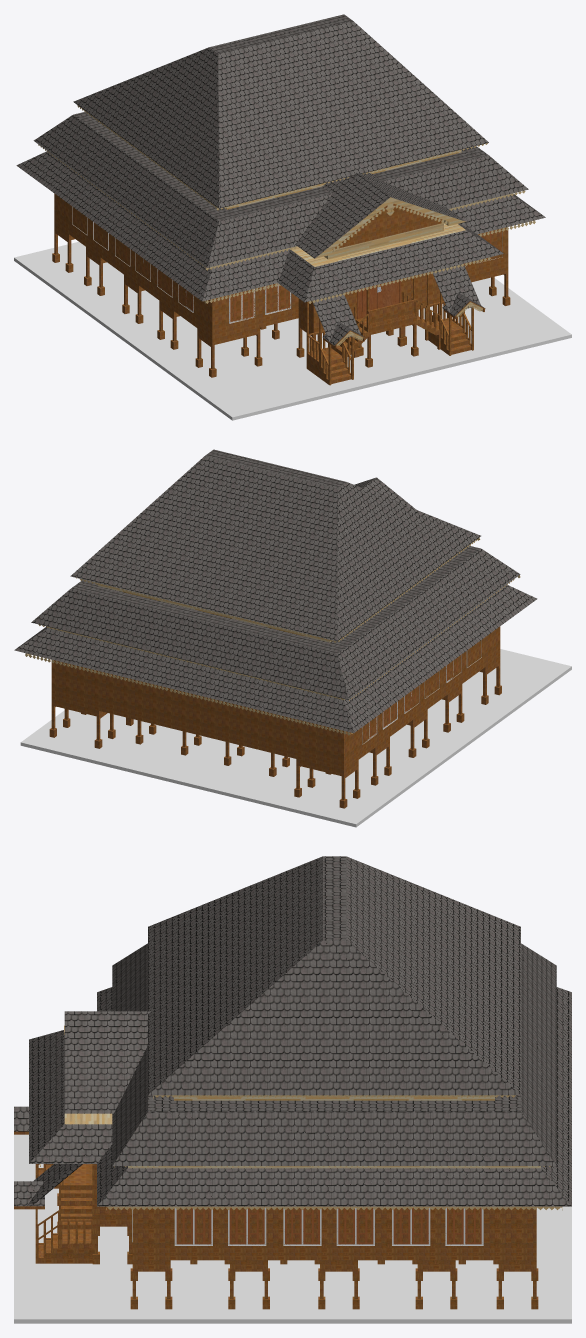
File: rumah_lampung_sumatra.glb
The picture shows the model from 3 angles, top to bottom: view 1: azimuth 30°, elevation 25°; view 2: azimuth 150°, elevation 25°; view 3: azimuth 270°, elevation 25°; orthographic projection. The views are drawn at different scales.
Visible parts, largest first — view 1: G-Object.053, G-Object.002, G-Object.052, G-Object.051, G-Object.055, G-Object.525, G-Object.057, G-Object.524, G-Object.600, G-Object.562, G-Object.049, G-Object.1037 (+9 smaller); view 2: G-Object.053, G-Object.052, G-Object.002, G-Object.051, G-Object.525, G-Object.524, G-Object.1040, G-Object, G-Object.057, G-Object.1038, G-Object.1042, G-Object.1037 (+1 smaller); view 3: G-Object.053, G-Object.052, G-Object.002, G-Object.051, G-Object.525, G-Object.057, G-Object.055, G-Object.524, G-Object.532, G-Object.531, G-Object, G-Object.059 (+7 smaller).
Boxes of the visible parts, <box> form: G-Object.053: <box>73,14,488,209</box>; G-Object.002: <box>14,241,571,420</box>; G-Object.052: <box>33,111,528,267</box>; G-Object.051: <box>16,151,545,301</box>; G-Object.055: <box>278,223,503,302</box>; G-Object.525: <box>54,193,508,333</box>; G-Object.057: <box>295,172,465,258</box>; G-Object.524: <box>54,218,508,339</box>; G-Object.600: <box>312,293,360,341</box>; G-Object.562: <box>433,264,480,312</box>; G-Object.049: <box>313,271,442,328</box>; G-Object.1037: <box>195,327,262,377</box>; G-Object.053: <box>70,449,480,642</box>; G-Object.052: <box>31,545,520,699</box>; G-Object.002: <box>20,649,571,827</box>; G-Object.051: <box>14,585,537,733</box>; G-Object.525: <box>51,626,500,764</box>; G-Object.524: <box>51,650,500,770</box>; G-Object.1040: <box>294,759,360,808</box>; G-Object: <box>49,699,115,748</box>; G-Object.057: <box>354,477,416,509</box>; G-Object.1038: <box>407,709,429,757</box>; G-Object.1042: <box>441,684,464,732</box>; G-Object.1037: <box>479,656,501,704</box>; G-Object.053: <box>148,856,520,1100</box>; G-Object.052: <box>112,943,556,1168</box>; G-Object.002: <box>14,1134,571,1323</box>; G-Object.051: <box>97,987,571,1207</box>; G-Object.525: <box>132,1207,536,1252</box>; G-Object.057: <box>64,1011,150,1113</box>; G-Object.055: <box>29,1030,112,1163</box>; G-Object.524: <box>132,1253,536,1260</box>; G-Object.532: <box>37,1229,94,1263</box>; G-Object.531: <box>61,1190,92,1229</box>; G-Object: <box>496,1260,538,1309</box>; G-Object.059: <box>130,1260,172,1309</box>.
Size of the model in its own units: 14.39 by 10.01 by 15.72.
Materials: 7 (6 with a texture image).
